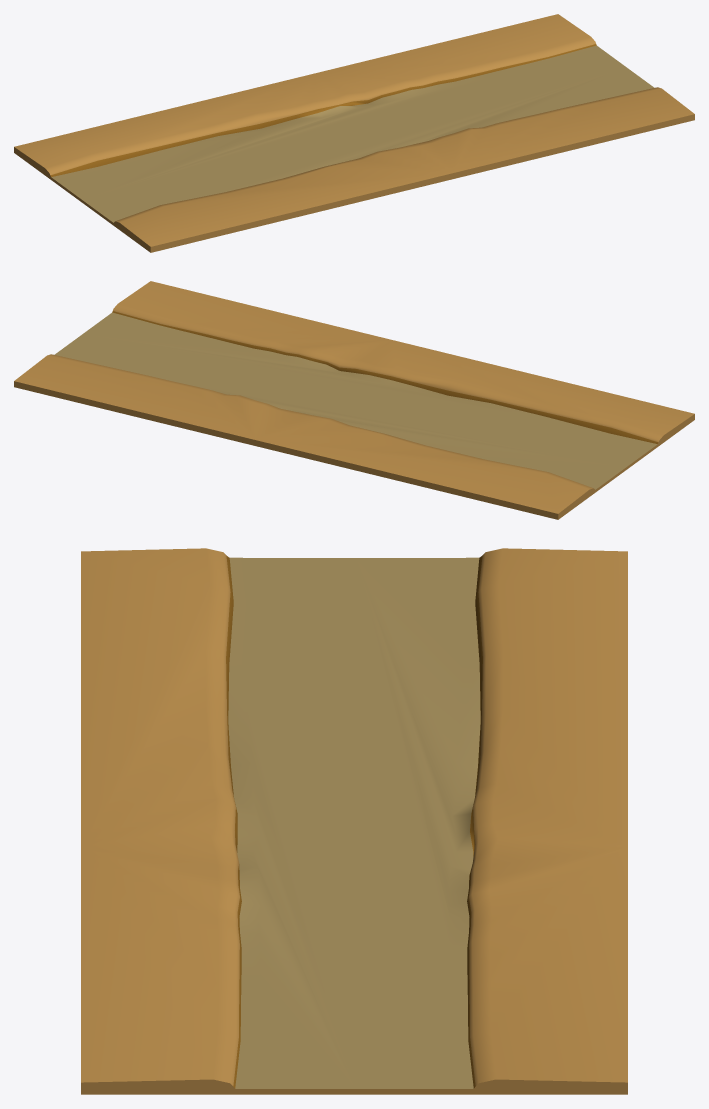
The model's file is path sand 2.fbx.
3 renders of one model, top to bottom at view 1: azimuth 30°, elevation 25°; view 2: azimuth 150°, elevation 25°; view 3: azimuth 270°, elevation 25°, orthographic. The views are drawn at different scales.
Visible parts, largest first — view 1: Cube.006; view 2: Cube.006; view 3: Cube.006.
Part boxes in pixels (box(x1,y1,x2,y2)): Cube.006: box(14, 14, 694, 252); Cube.006: box(14, 281, 694, 519); Cube.006: box(81, 548, 627, 1094).
Size of the model in its own units: 247 by 5.04 by 108.
